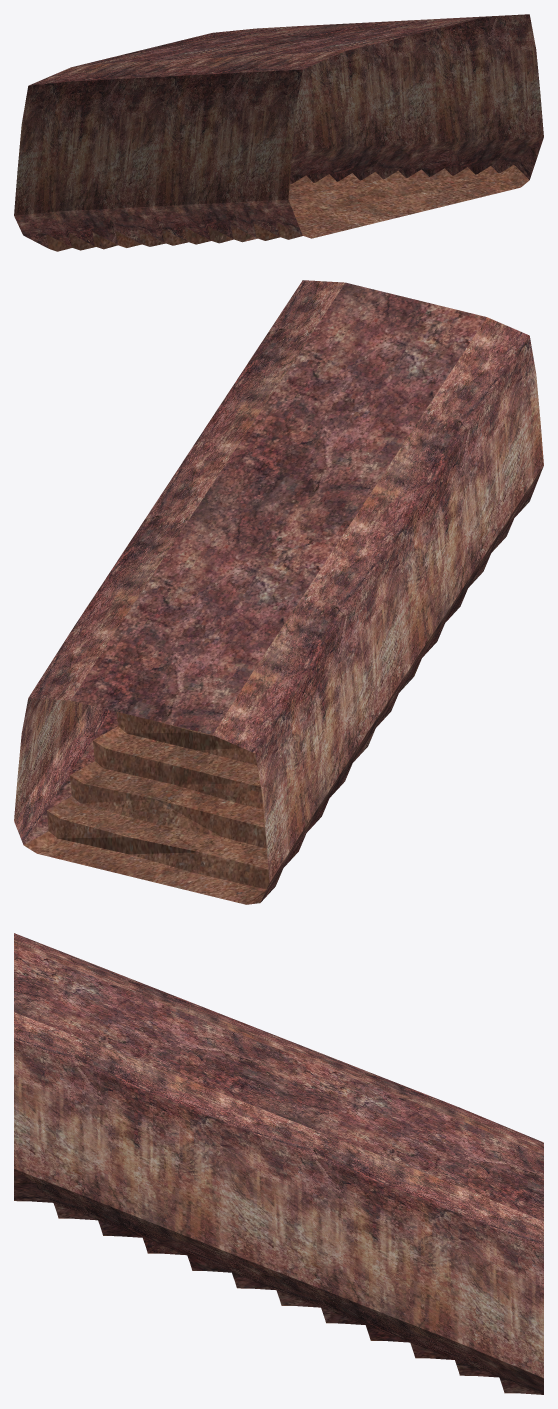
File: thm_dath_night_sister_stronghold_r8_mesh_r18.fbx
3 views of the same model, one above another, from view 1: azimuth 30°, elevation 25°; view 2: azimuth 150°, elevation 25°; view 3: azimuth 270°, elevation 25° (orthographic). The views are drawn at different scales.
Parts seen in each view (by area): view 1: mesh_node; view 2: mesh_node; view 3: mesh_node.
Part boxes in pixels (x1,y1,x2,y2): mesh_node: (14, 14, 543, 251); mesh_node: (14, 280, 543, 904); mesh_node: (14, 933, 543, 1394).
Bounding box in the file's own units: 5.97 × 8.45 × 11.1.
3 materials, 3 textured.
